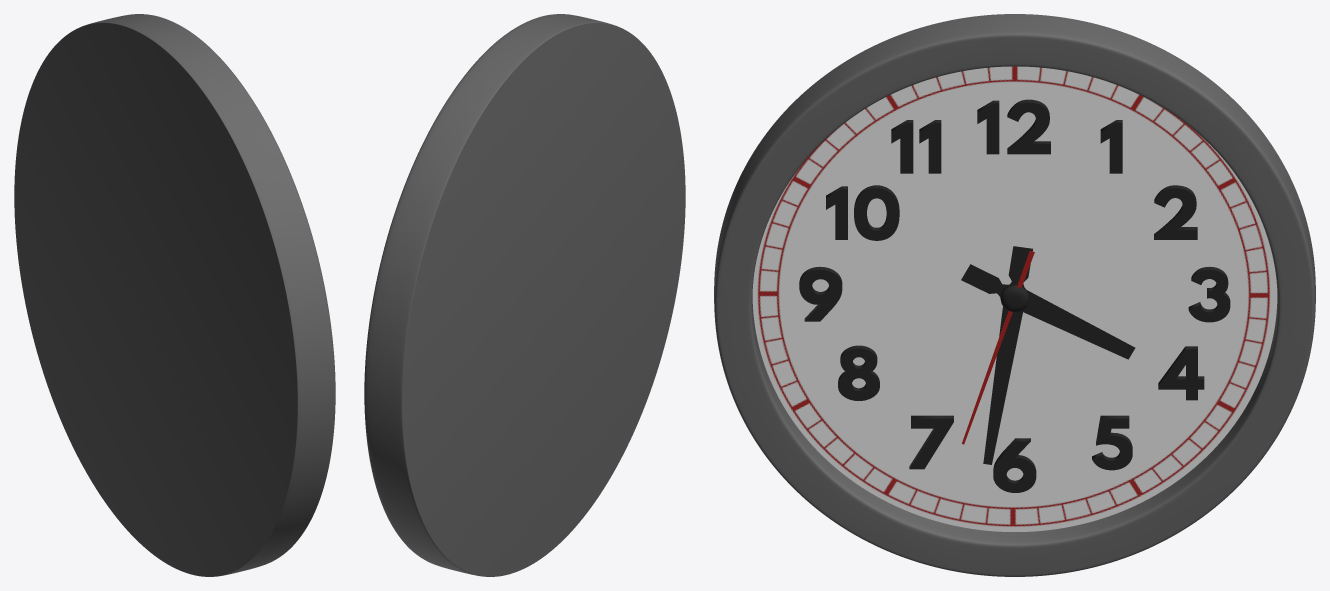
3 views of the same model, side by side, from view 1: azimuth 30°, elevation 25°; view 2: azimuth 150°, elevation 25°; view 3: azimuth 270°, elevation 25° (orthographic). The views are drawn at different scales.
Parts seen in each view (by area): view 1: Cylinder.001; view 2: Cylinder.001; view 3: Circle, Cylinder.001, time-hours, time-minutes, Text.004, Text, Text.011, Text.003, Text.006, Text.001, Text.005, Text.009 (+5 smaller).
Boxes of the visible parts, <box> form: Cylinder.001: <box>14,14,335,576</box>; Cylinder.001: <box>364,14,685,576</box>; Circle: <box>752,66,1277,531</box>; Cylinder.001: <box>714,14,1315,576</box>; time-hours: <box>961,264,1135,359</box>; time-minutes: <box>983,246,1032,464</box>; Text.004: <box>826,185,899,240</box>; Text: <box>977,99,1050,154</box>; Text.011: <box>838,345,879,400</box>; Text.003: <box>891,120,941,173</box>; Text.006: <box>799,266,842,321</box>; Text.001: <box>993,438,1036,492</box>; Text.005: <box>1154,185,1197,239</box>; Text.009: <box>1092,415,1132,470</box>.
Size of what is drawn, in the model's own units: 0.0308 by 0.3865 by 0.3865.
Materials: 4 (2 with a texture image).
